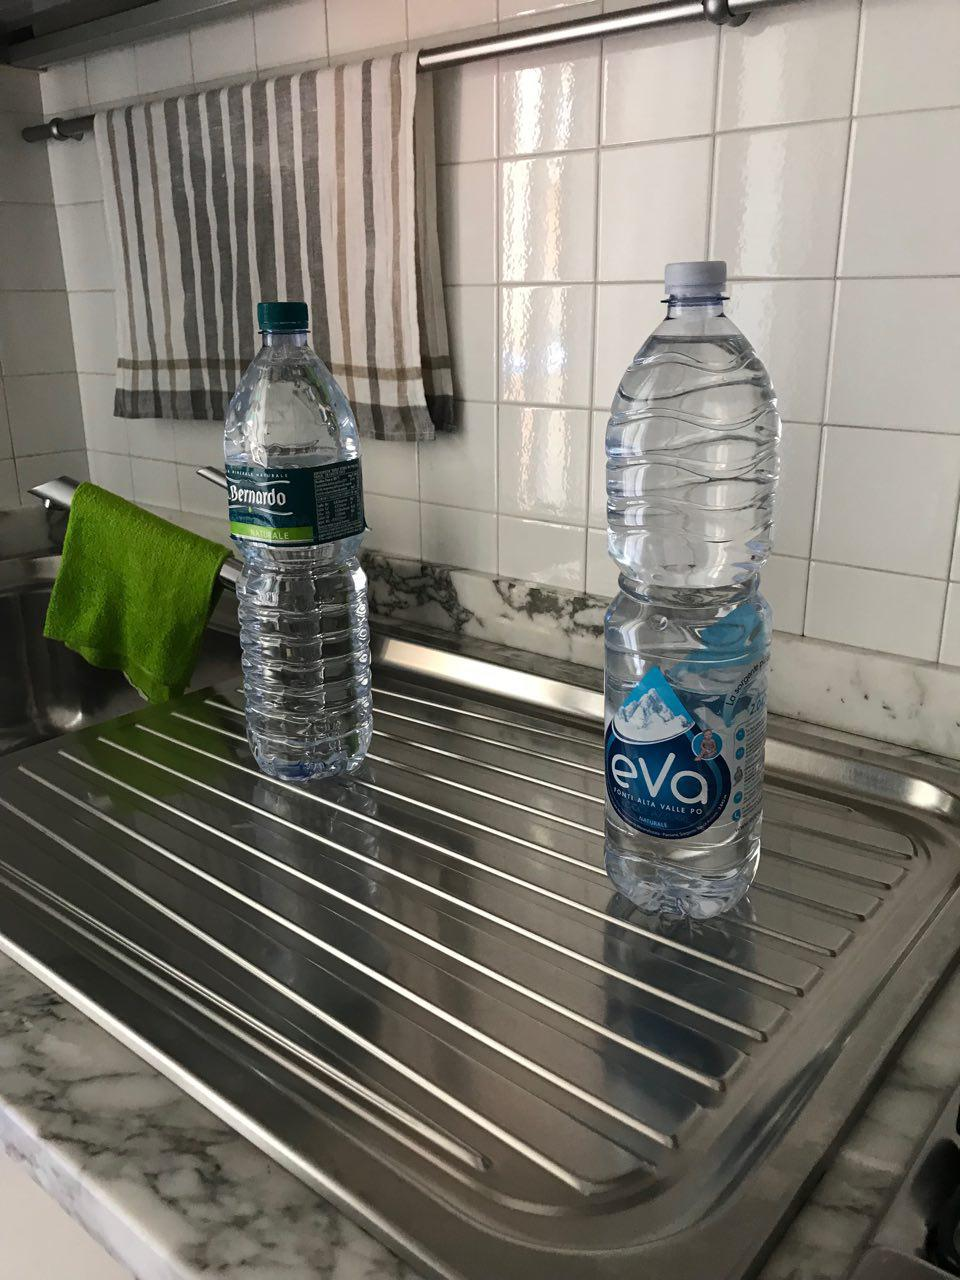san_bernardo: (221, 299, 375, 783)
